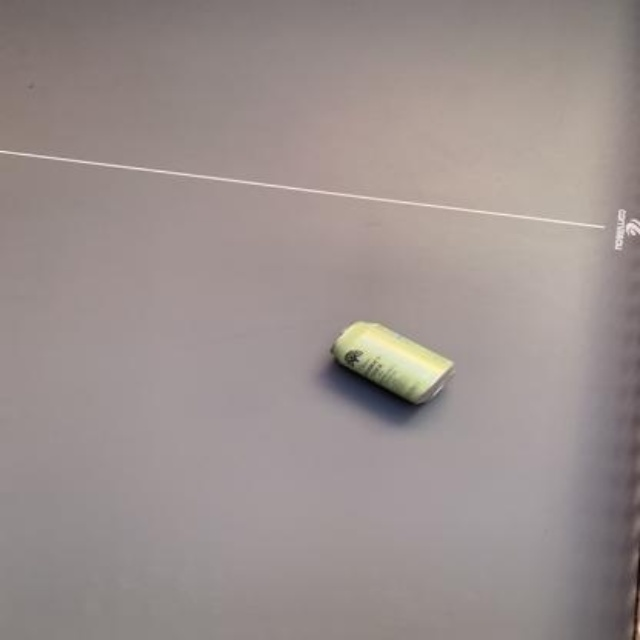trash: (331, 322, 452, 403)
